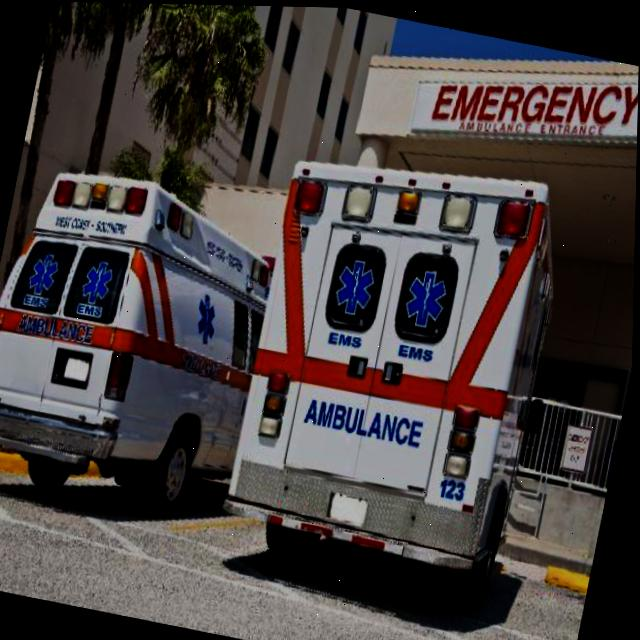emergency: (210, 129, 594, 639), (0, 149, 295, 536)
